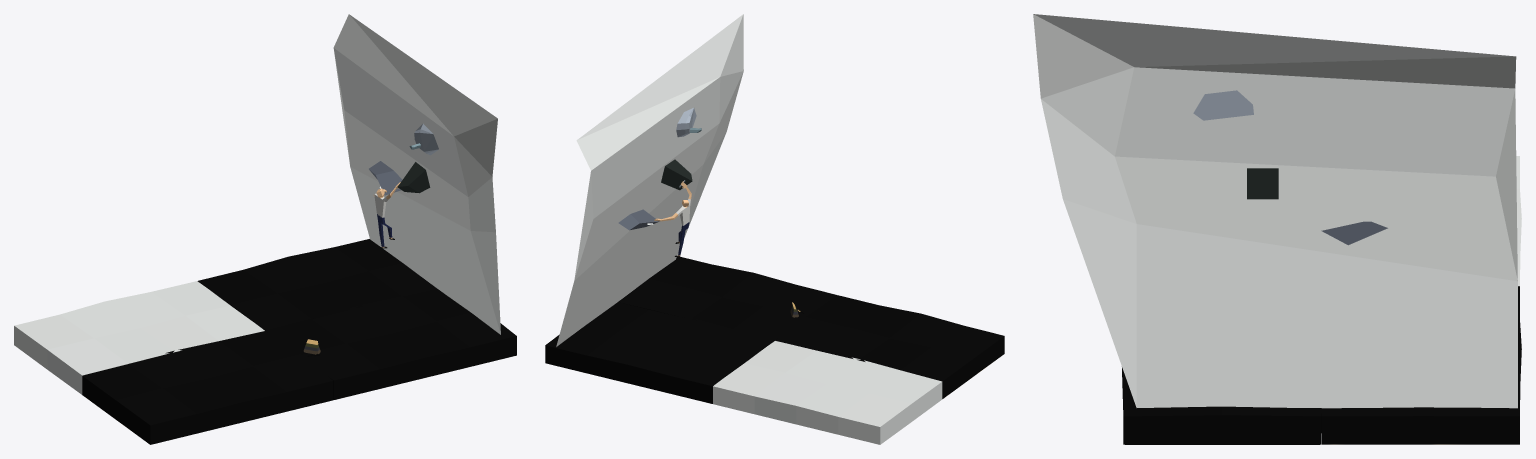
The model's file is Real-CMPM-121-P1.fbx.
3 renders of one model, left to right at view 1: azimuth 30°, elevation 25°; view 2: azimuth 150°, elevation 25°; view 3: azimuth 270°, elevation 25°, orthographic. The views are drawn at different scales.
Visible parts, largest first — view 1: wall, mat.014, mat.013, mat.015, mat.012, gaston volume, start volume, dude; view 2: wall, mat.015, mat.012, mat.014, mat.013, gaston volume, dude, start volume; view 3: wall, mat.013, mat.012, volume 2, gaston volume, start volume, mat.015.
Part boxes in pixels (x1,y1,x2,y2): wall: (333, 14, 500, 334); mat.014: (82, 331, 333, 444); mat.013: (266, 288, 516, 399); mat.015: (14, 281, 264, 394); mat.012: (197, 239, 436, 330); gaston volume: (397, 162, 430, 193); start volume: (369, 161, 402, 195); dude: (373, 182, 400, 248); wall: (556, 14, 743, 346); mat.015: (713, 341, 942, 444); mat.012: (545, 302, 774, 403); mat.014: (775, 295, 1004, 398); mat.013: (618, 256, 836, 340); gaston volume: (661, 159, 692, 190); dude: (654, 181, 691, 256); start volume: (618, 209, 659, 230); wall: (1033, 14, 1517, 408); mat.013: (1122, 367, 1321, 444); mat.012: (1321, 286, 1521, 444); volume 2: (1193, 90, 1253, 120); gaston volume: (1247, 168, 1278, 199); start volume: (1321, 221, 1387, 245); mat.015: (1516, 156, 1521, 286).
Bounding box in the file's own units: 3942 × 2780 × 3113.
14 materials, 14 textured.
